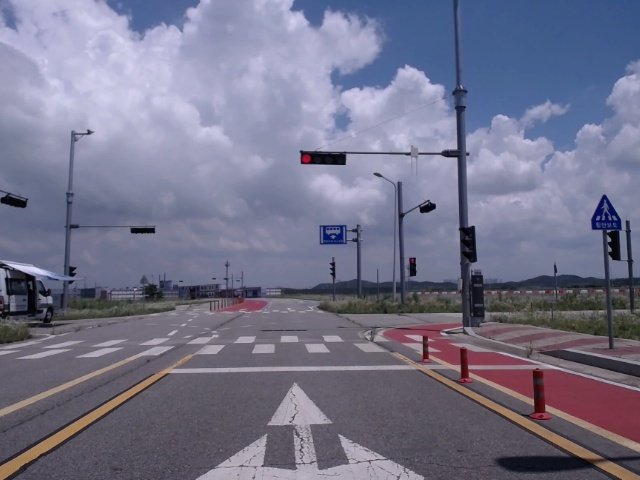red_4: (301, 153, 345, 165)
